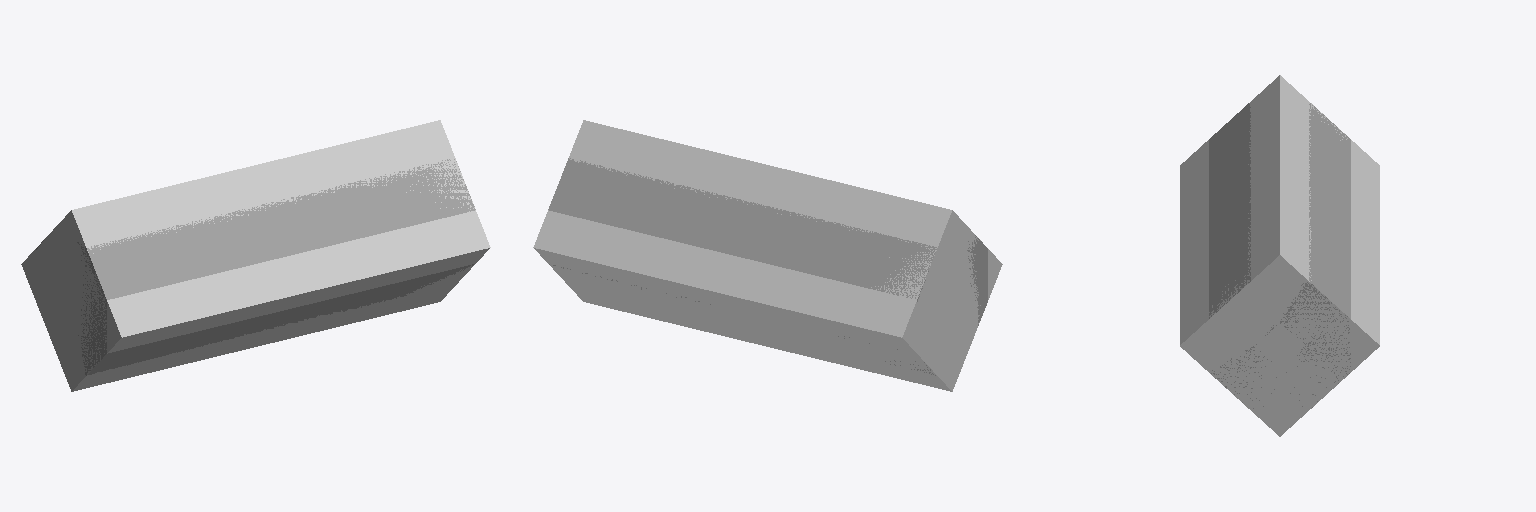
Rendered from harpoonbarrel.obj.
The picture shows the model from 3 angles: view 1: azimuth 30°, elevation 25°; view 2: azimuth 150°, elevation 25°; view 3: azimuth 270°, elevation 25°; orthographic projection.
Parts seen in each view (by area): view 1: Cube.001, Cube; view 2: Cube.001, Cube; view 3: Cube.001, Cube.
Boxes of the visible parts, <box> form: Cube.001: <box>21,120,490,391</box>; Cube: <box>36,159,475,375</box>; Cube.001: <box>533,120,1002,391</box>; Cube: <box>548,158,987,375</box>; Cube.001: <box>1180,75,1379,436</box>; Cube: <box>1209,103,1350,408</box>.
Size of the model in its own units: 1.5 by 0.7071 by 0.7071.